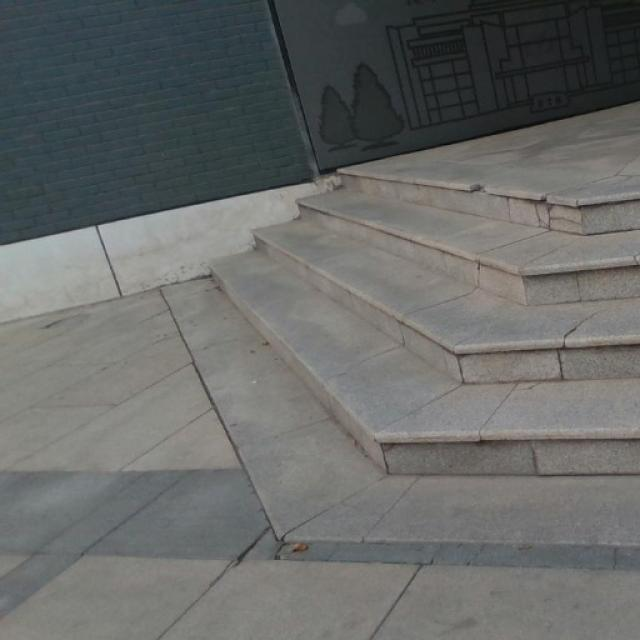Stairs: (209, 162, 640, 473)
